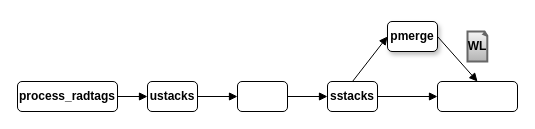
Image size: 535x129. Some labels were removed from this diagram. Here are the shapes that lost their labels. From the top down, the centre of each, then its label:
At pixel 262 96: "cstacks".
At pixel 477 96: "populations".
